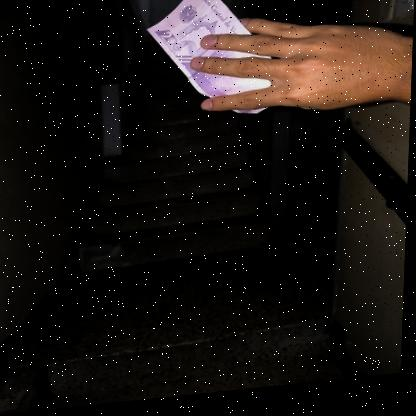one_hundred-back-vef: (143, 0, 275, 129)
